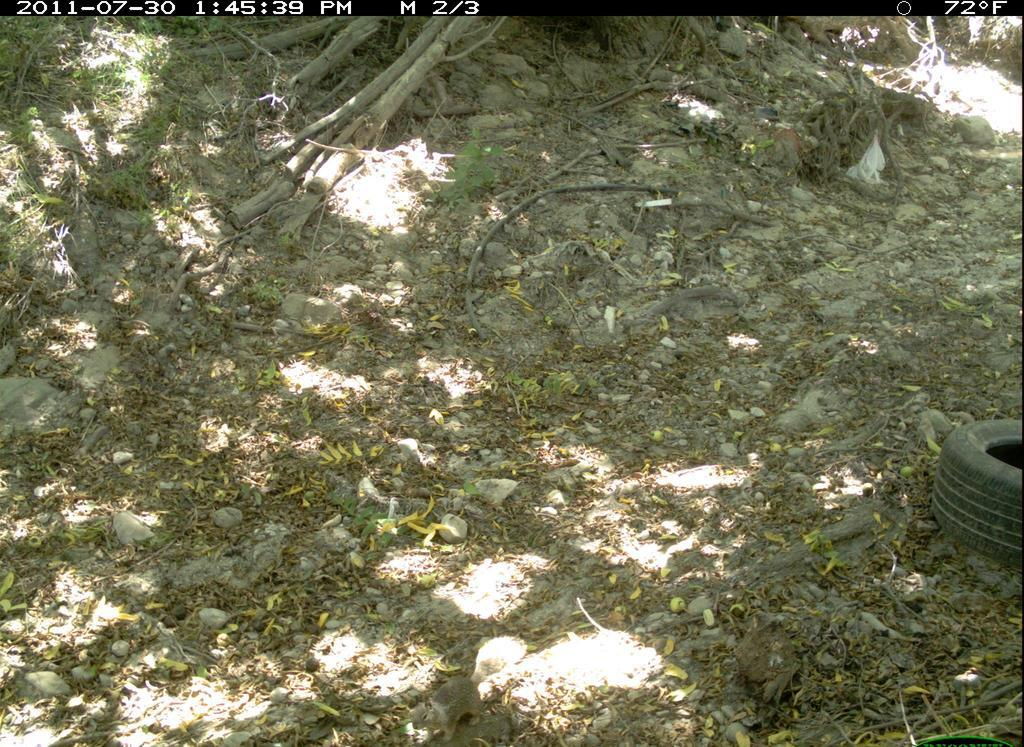squirrel: (395, 628, 542, 743)
